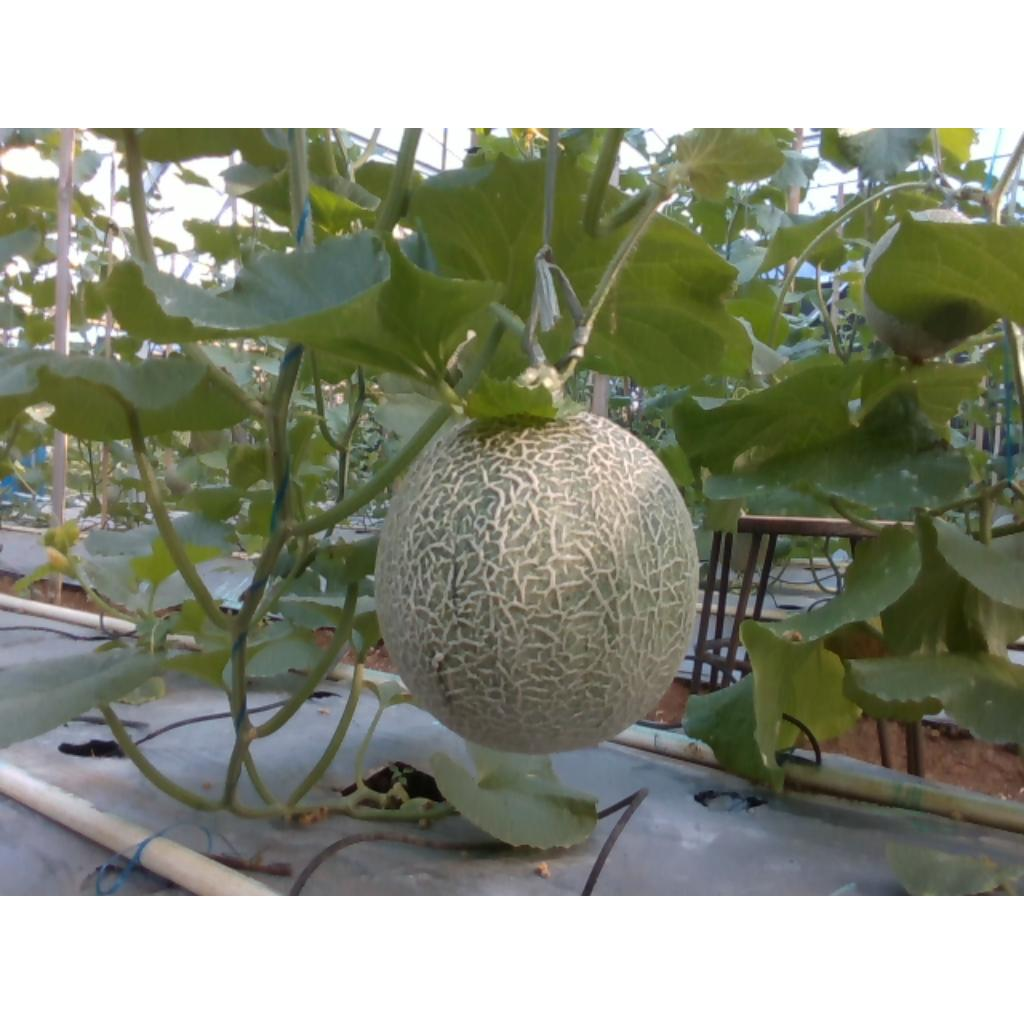melon: (376, 413, 699, 754)
